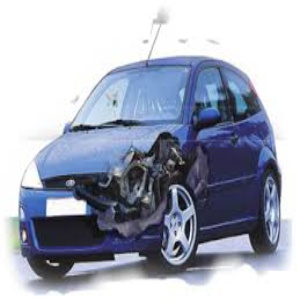bonnet: (85, 128, 178, 174)
bumper: (86, 183, 162, 254)
